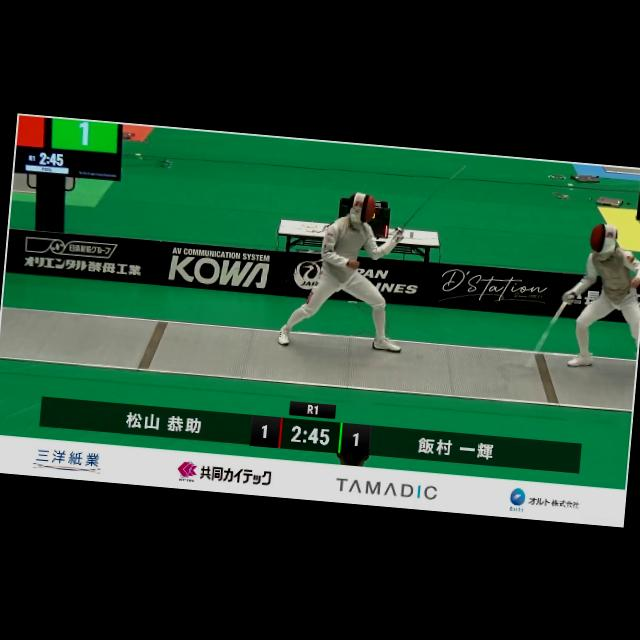blade: (389, 156, 476, 249), (523, 287, 577, 375)
